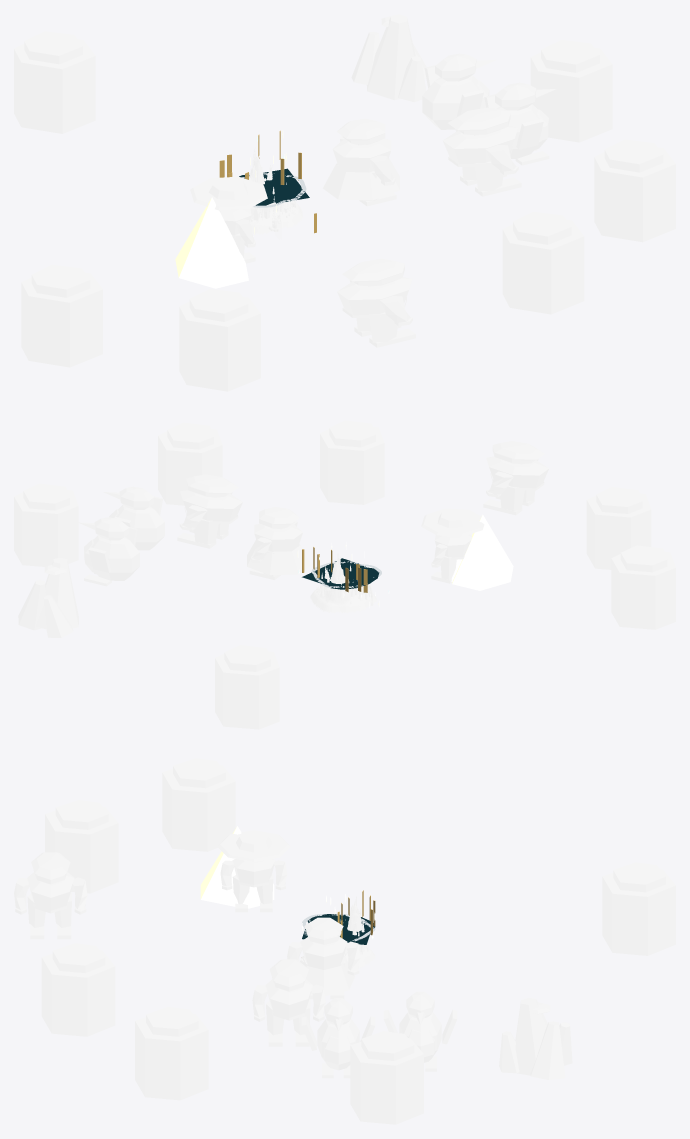
Rendered from ile-givre-v5.glb.
The picture shows the model from 3 angles, top to bottom: view 1: azimuth 30°, elevation 25°; view 2: azimuth 150°, elevation 25°; view 3: azimuth 270°, elevation 25°; orthographic projection. The views are drawn at different scales.
Visible parts, largest first — view 1: ile_anime5.006, ile_copie5.001, ile_copie4.002, ile_copie6, ile_copie2.003, ile_copie3.002, ile_copie0.007, ile_anime0.012, ile_anime1.012, ile_anime4.006, ile_libre0.010, ile_copie1.003 (+5 smaller); view 2: ile_anime5.006, ile_copie4.002, ile_copie6, ile_copie3.002, ile_copie2.003, ile_copie5.001, ile_anime0.012, ile_copie0.007, ile_anime1.012, ile_anime4.006, ile_copie1.003, ile_anime2.012 (+5 smaller); view 3: ile_anime5.006, ile_copie3.002, ile_copie5.001, ile_copie6, ile_copie4.002, ile_copie2.003, ile_anime4.006, ile_anime0.012, ile_anime2.012, ile_copie0.007, ile_anime1.012, ile_anime3.010 (+4 smaller).
Boxes of the visible parts, x1=… form: ile_anime5.006: x1=502, y1=212, x2=584, y2=314; ile_copie5.001: x1=594, y1=139, x2=675, y2=242; ile_copie4.002: x1=21, y1=264, x2=102, y2=367; ile_copie6: x1=14, y1=31, x2=95, y2=133; ile_copie2.003: x1=179, y1=289, x2=260, y2=391; ile_copie3.002: x1=530, y1=40, x2=612, y2=142; ile_copie0.007: x1=442, y1=107, x2=521, y2=196; ile_anime0.012: x1=337, y1=258, x2=415, y2=347; ile_anime1.012: x1=323, y1=118, x2=399, y2=206; ile_anime4.006: x1=351, y1=14, x2=426, y2=102; ile_libre0.010: x1=175, y1=197, x2=248, y2=288; ile_copie1.003: x1=422, y1=53, x2=496, y2=129; ile_anime5.006: x1=320, y1=420, x2=384, y2=504; ile_copie4.002: x1=611, y1=545, x2=675, y2=629; ile_copie6: x1=215, y1=645, x2=279, y2=729; ile_copie3.002: x1=14, y1=483, x2=78, y2=566; ile_copie2.003: x1=586, y1=487, x2=651, y2=569; ile_copie5.001: x1=158, y1=422, x2=222, y2=505; ile_anime0.012: x1=483, y1=441, x2=548, y2=515; ile_copie0.007: x1=177, y1=474, x2=242, y2=548; ile_anime1.012: x1=247, y1=507, x2=310, y2=579; ile_anime4.006: x1=18, y1=558, x2=78, y2=637; ile_copie1.003: x1=78, y1=517, x2=139, y2=586; ile_anime2.012: x1=421, y1=508, x2=484, y2=583; ile_anime5.006: x1=41, y1=943, x2=115, y2=1036; ile_copie3.002: x1=350, y1=1031, x2=423, y2=1124; ile_copie5.001: x1=135, y1=1007, x2=208, y2=1100; ile_copie6: x1=602, y1=862, x2=675, y2=955; ile_copie4.002: x1=162, y1=758, x2=235, y2=851; ile_copie2.003: x1=45, y1=800, x2=118, y2=893; ile_anime4.006: x1=499, y1=997, x2=572, y2=1079; ile_anime0.012: x1=14, y1=852, x2=87, y2=939; ile_anime2.012: x1=217, y1=830, x2=290, y2=912; ile_copie0.007: x1=252, y1=959, x2=325, y2=1046; ile_anime1.012: x1=287, y1=917, x2=360, y2=999; ile_anime3.010: x1=301, y1=998, x2=375, y2=1078.
Bounding box in the file's own units: 19.55 × 2.62 × 17.99.
